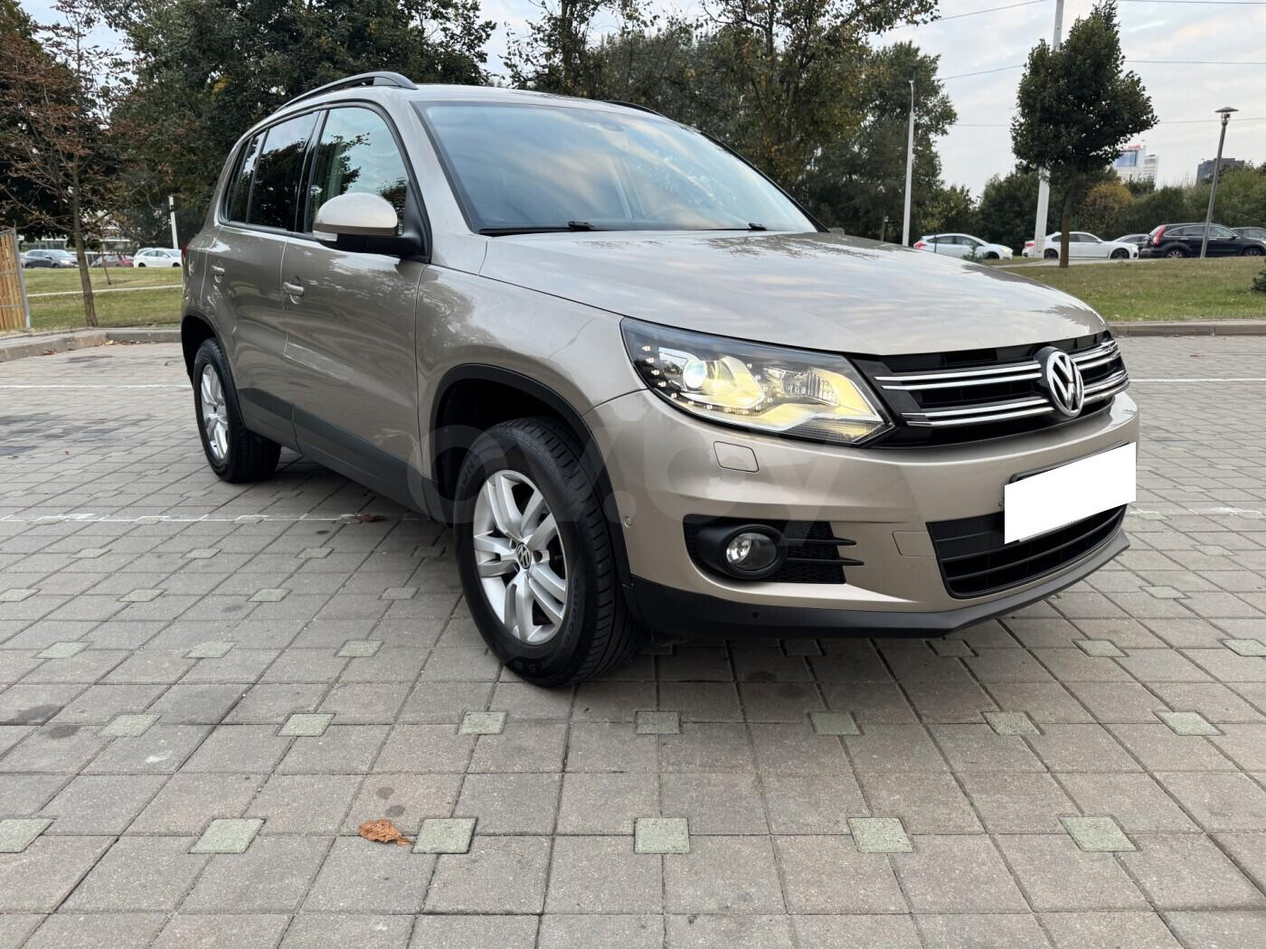Tiguan_2011-2018: (168, 83, 1142, 701)
